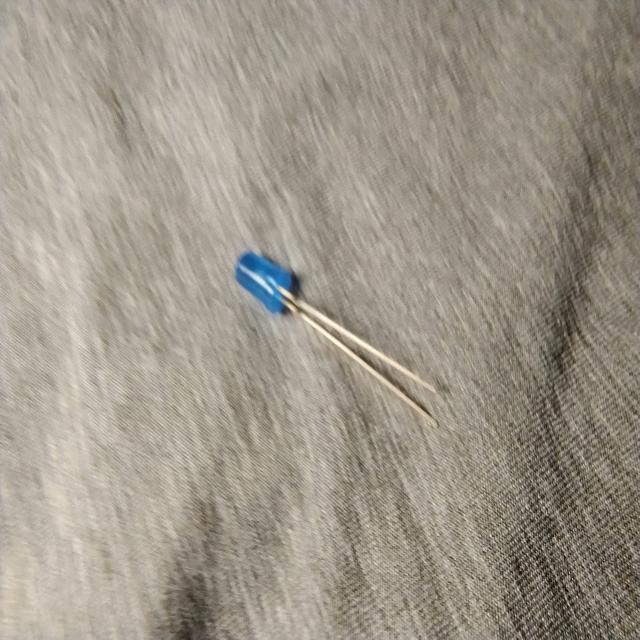blue_led: (234, 248, 299, 316)
